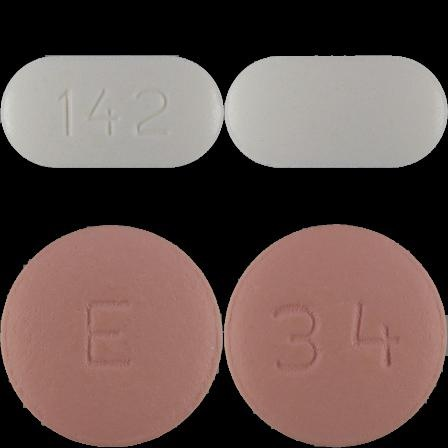53808-0613: (0, 0, 224, 224)
